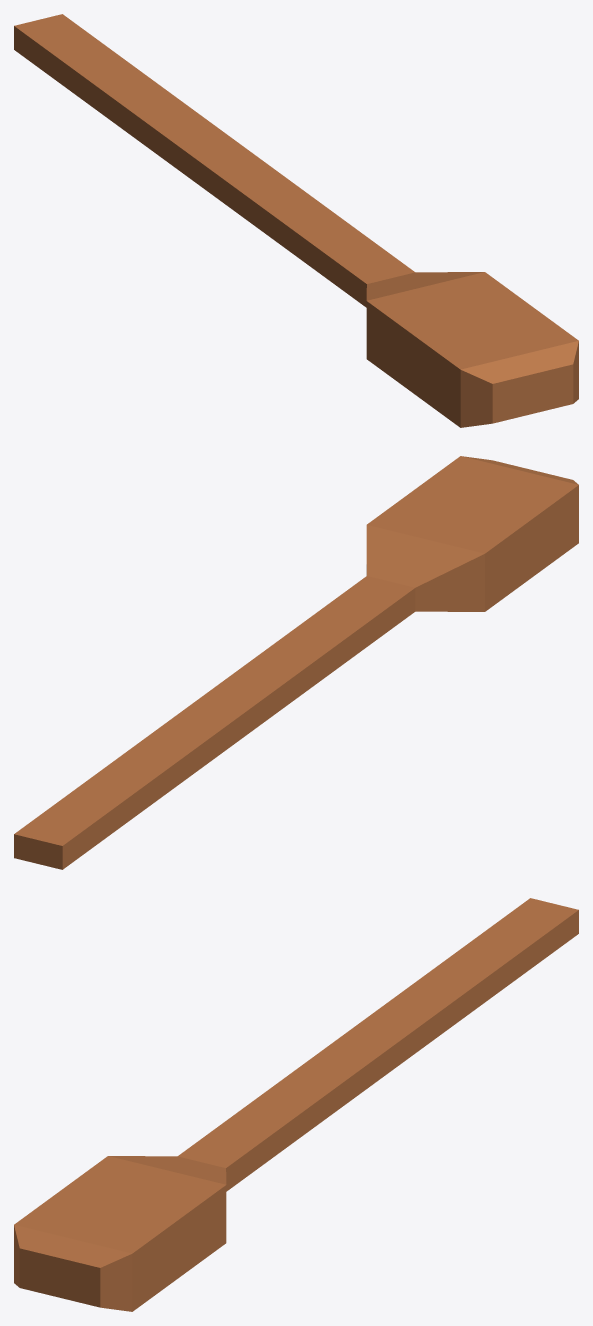
File: paddle.glb
The picture shows the model from 3 angles, top to bottom: view 1: azimuth 30°, elevation 25°; view 2: azimuth 150°, elevation 25°; view 3: azimuth 330°, elevation 25°; orthographic projection.
Parts seen in each view (by area): view 1: paddle; view 2: paddle; view 3: paddle.
Boxes of the visible parts, x1,y1,x2,y2 form: paddle: (14,14,578,427); paddle: (14,456,578,869); paddle: (14,898,578,1311).
Size of the model in its own units: 1.41 by 0.6637 by 10.2.
